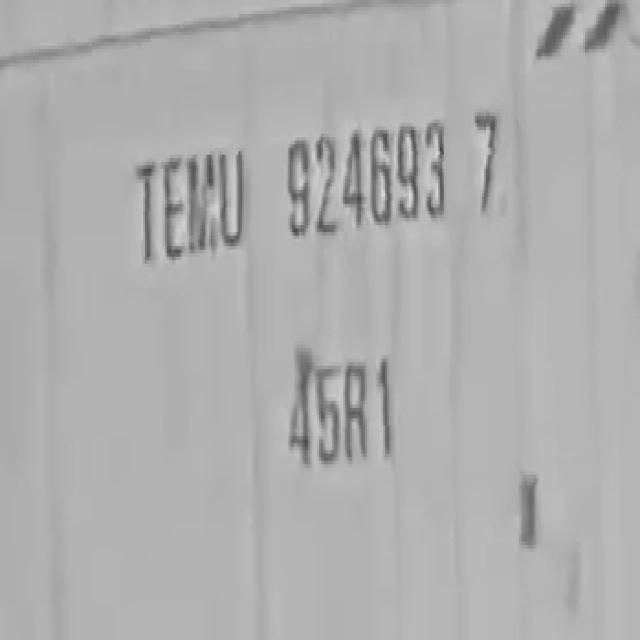dv: (465, 100, 507, 228)
owner: (122, 129, 252, 277)
serial: (281, 83, 455, 252)
size: (270, 338, 415, 490)
